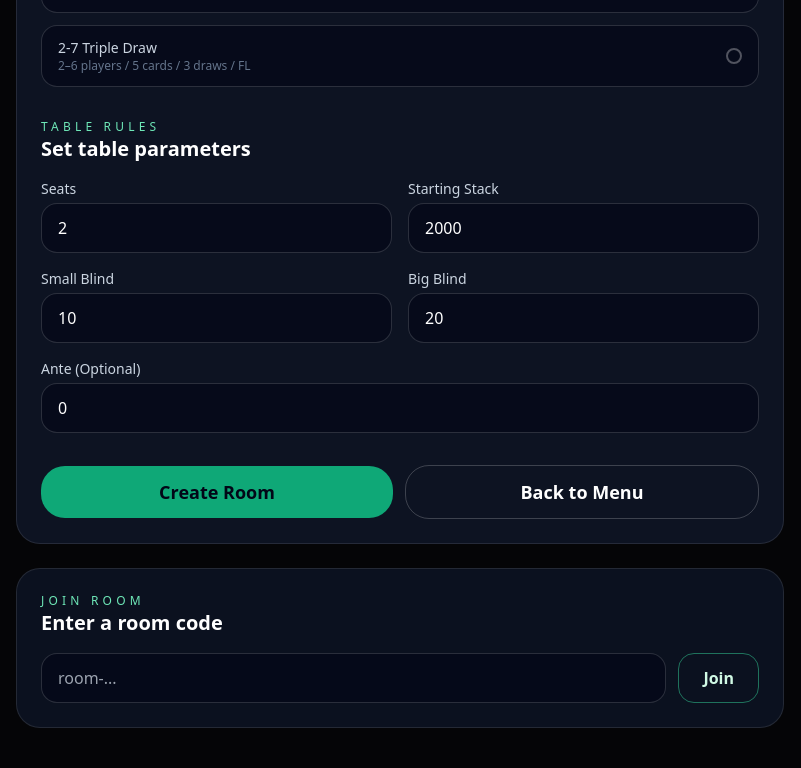
Test: FriendMatchSetupScreen › joins directly with a room code instead of reading private state first
(page scrolled)
Type "abc234" into the field named "room code".
click(354, 678); type("abc234")  # box [41,653,666,703]
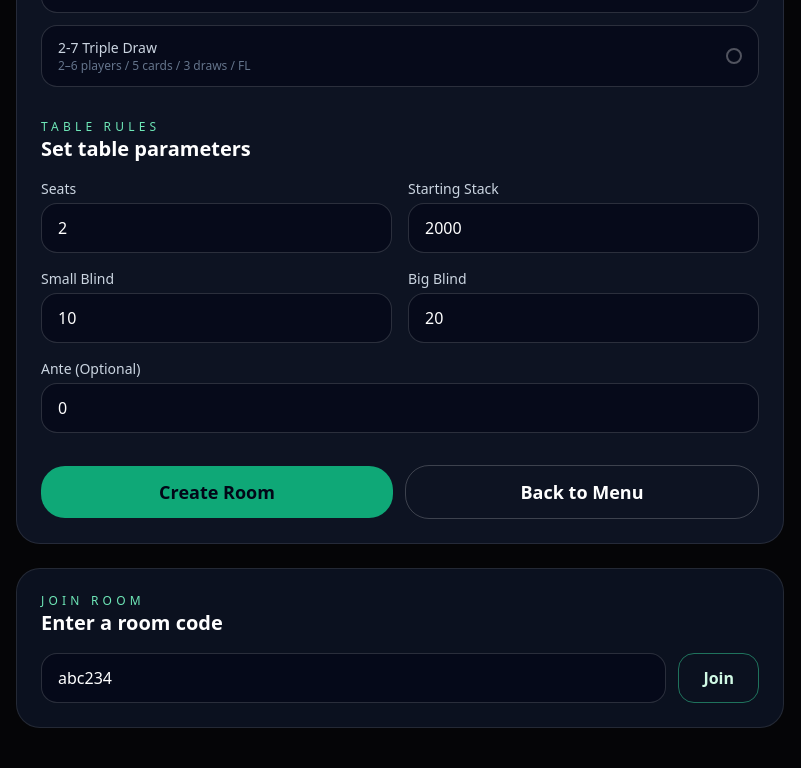
Click the button "Join".
click(719, 678)  # box [678,653,759,703]
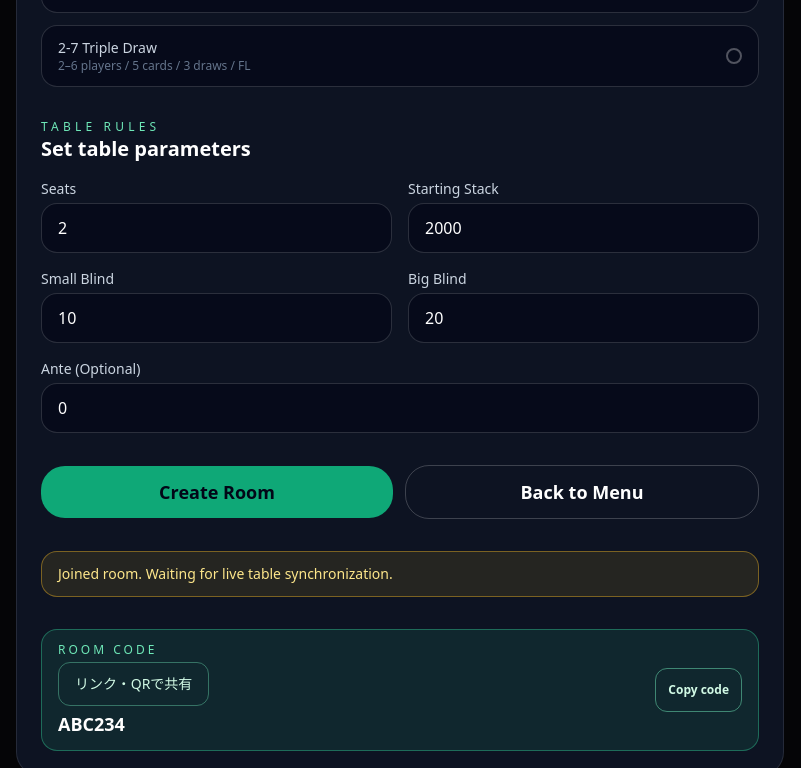
Now the text "Joined room. Waiting for live table synchronization." is shown, box [41,551,759,597]
